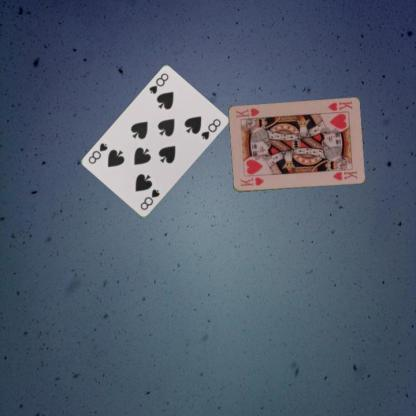8s: (146, 70, 170, 96), (138, 186, 161, 212)
Kh: (238, 174, 265, 188), (324, 99, 353, 112)
